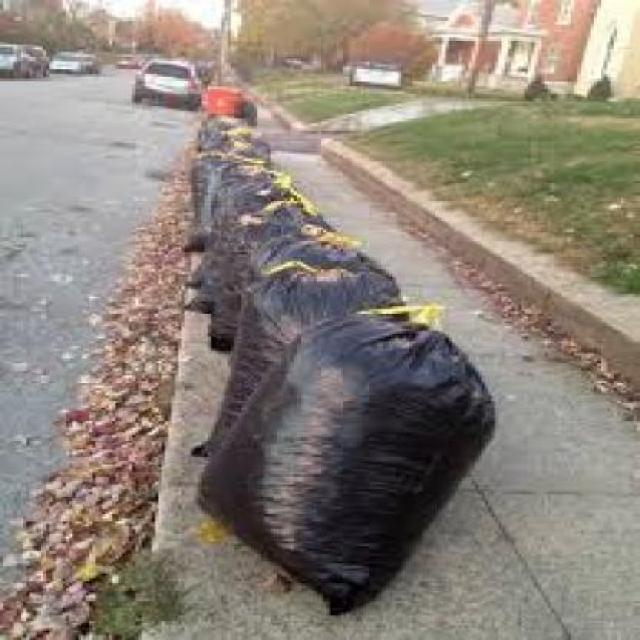garbage: (57, 103, 492, 610)
